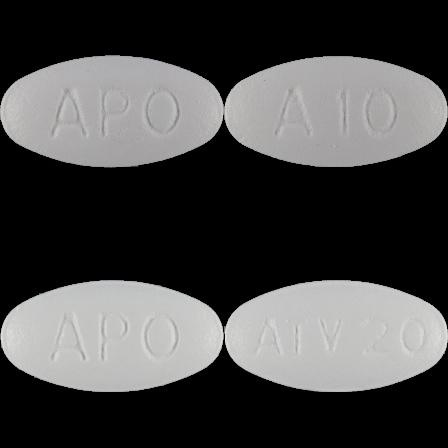0904-6290: (0, 0, 224, 224)
